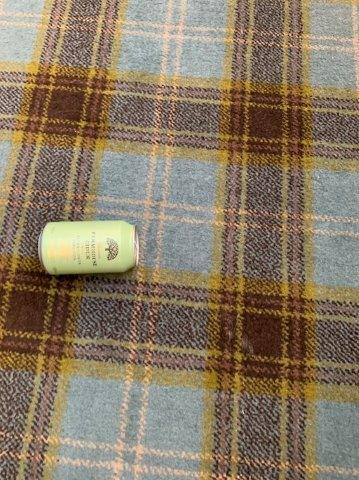kaleng: (38, 222, 139, 273)
